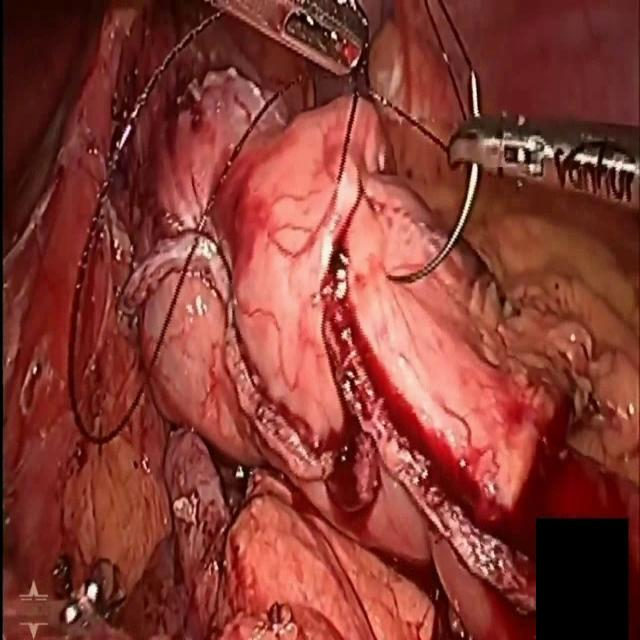surgical-tool: (445, 112, 640, 209), (205, 0, 367, 75)
